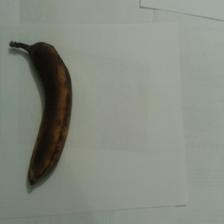Banana Rotten: (7, 31, 79, 197)
